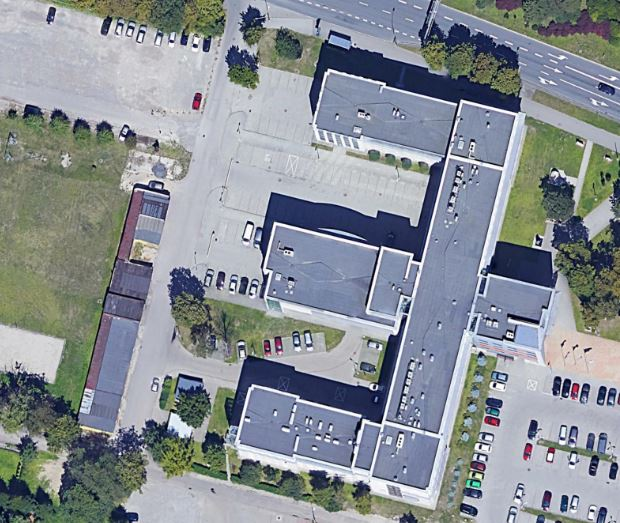block of flats: (203, 61, 557, 513)
garage: (72, 178, 174, 439)
